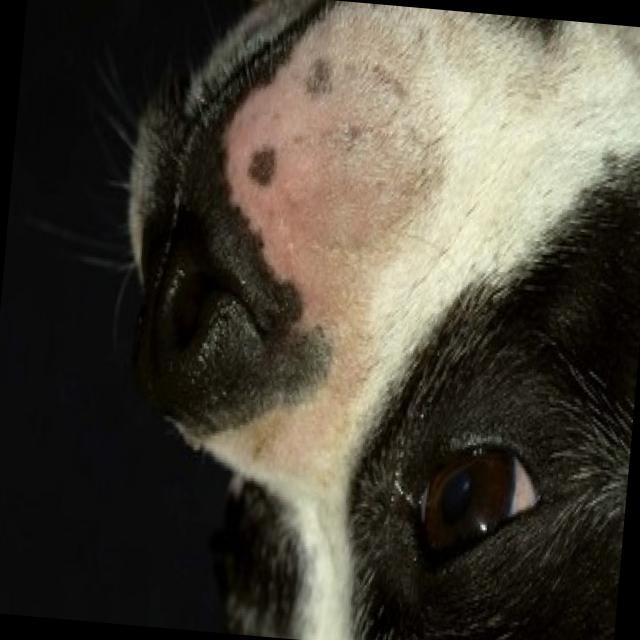allergic dermatitis: (229, 100, 390, 278), (286, 253, 364, 415)
